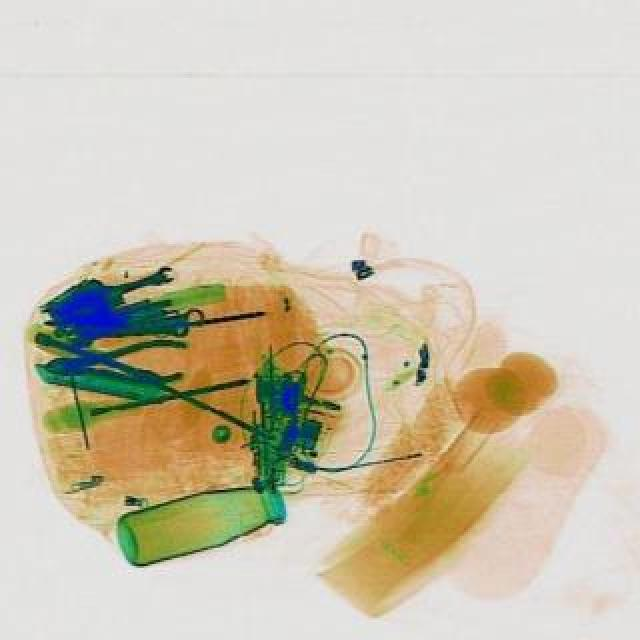scissors: (104, 262, 176, 298)
wrench: (40, 336, 184, 388)
